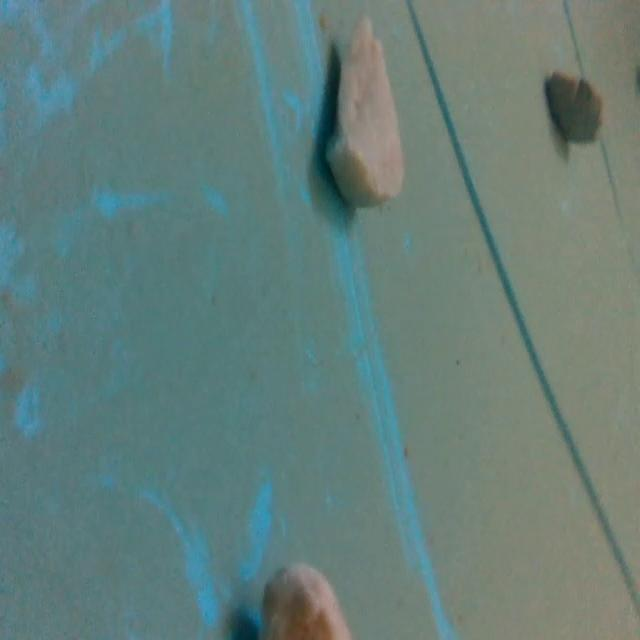rock: (317, 6, 423, 219), (249, 542, 350, 640), (544, 63, 608, 155)
